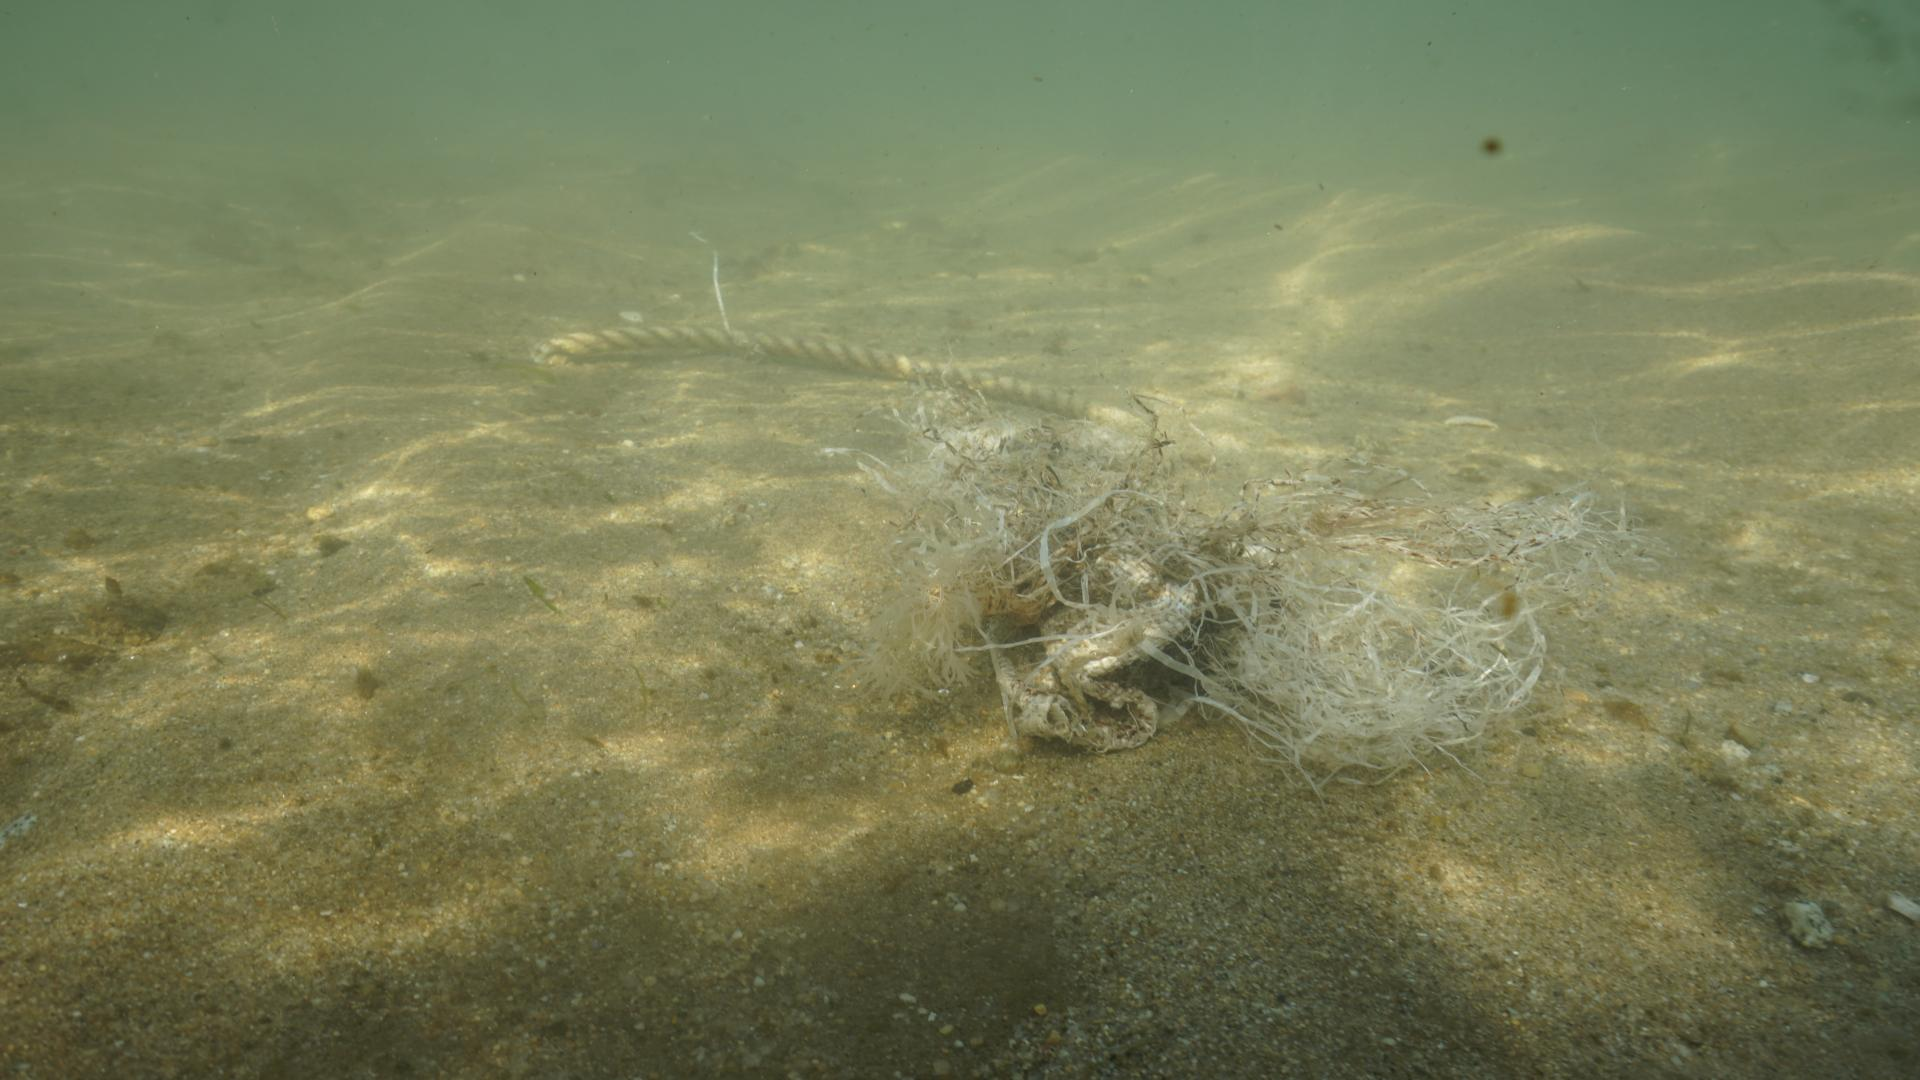bundle of ropes: (527, 316, 1147, 423)
